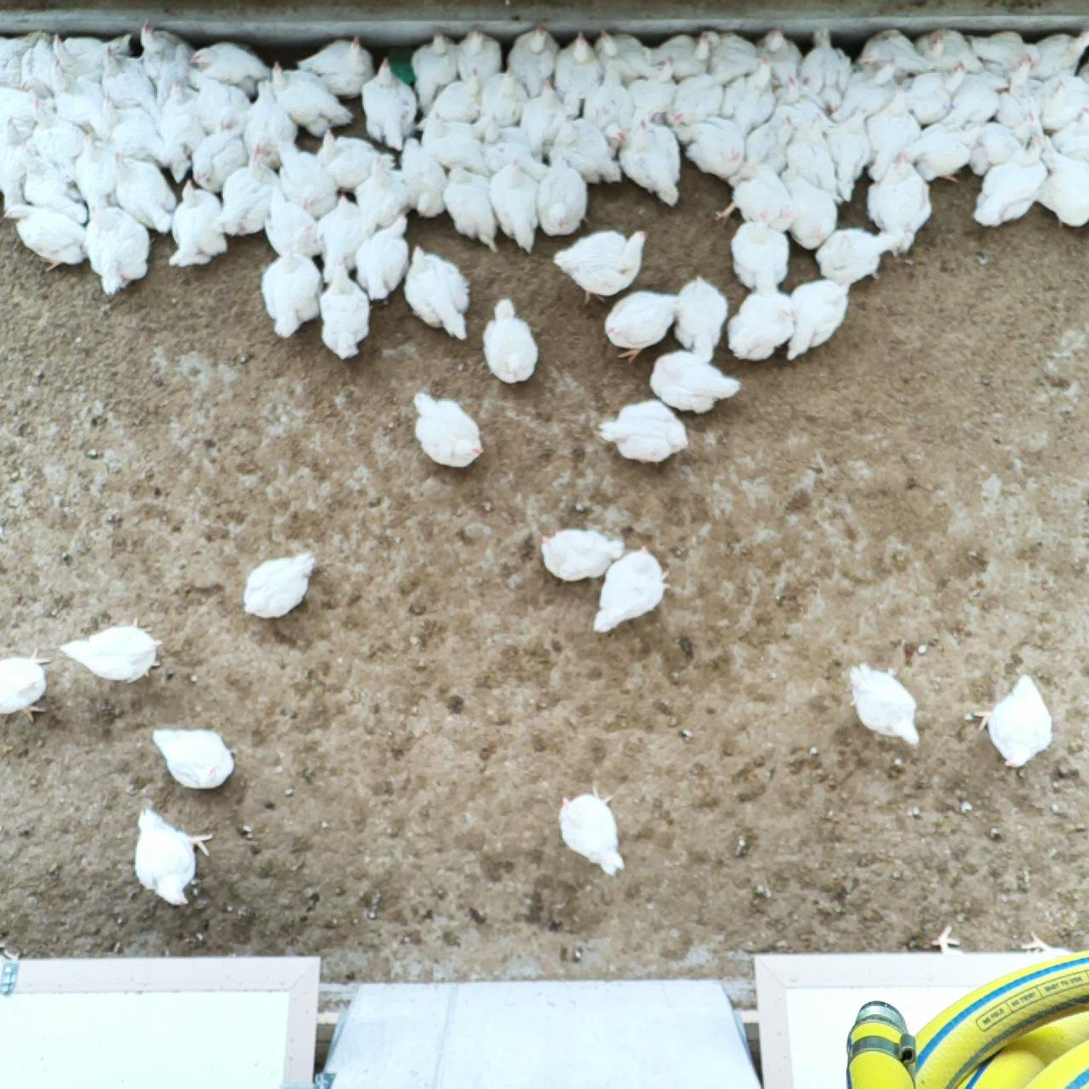chicken: (972, 670, 1058, 774), (132, 806, 214, 909), (843, 660, 929, 753), (552, 228, 649, 308), (590, 543, 673, 636), (863, 151, 935, 257), (83, 192, 157, 295), (57, 615, 166, 683), (971, 136, 1048, 229), (402, 243, 472, 343), (268, 60, 355, 140), (556, 783, 627, 877), (596, 399, 692, 467), (1, 200, 90, 273), (207, 146, 279, 236), (649, 349, 745, 416), (618, 113, 684, 209), (109, 148, 180, 237), (260, 242, 325, 339), (359, 56, 422, 154), (784, 279, 854, 365), (603, 288, 680, 365), (714, 162, 797, 233), (240, 75, 302, 170), (412, 391, 486, 470), (317, 258, 374, 360), (904, 115, 985, 186), (151, 725, 238, 791), (168, 179, 230, 271), (95, 93, 171, 168), (550, 114, 626, 189), (243, 549, 319, 623), (295, 33, 377, 101), (48, 58, 115, 141), (442, 163, 503, 254), (312, 126, 397, 191), (272, 139, 340, 220), (481, 295, 542, 385), (866, 84, 922, 182), (186, 39, 275, 99), (672, 275, 730, 366), (726, 288, 798, 361), (154, 81, 206, 182), (777, 168, 838, 253), (787, 113, 843, 205), (488, 157, 540, 256), (813, 225, 898, 285), (30, 97, 87, 186), (729, 114, 796, 189), (355, 213, 413, 299), (101, 44, 162, 125), (539, 527, 627, 583), (317, 192, 371, 283), (730, 220, 793, 298), (799, 26, 854, 115), (422, 108, 491, 178), (1035, 141, 1089, 229), (398, 134, 452, 221), (264, 184, 325, 259), (414, 66, 483, 132), (940, 68, 1011, 131), (410, 28, 460, 117), (0, 645, 54, 727), (677, 117, 745, 182), (833, 56, 902, 120), (827, 106, 872, 204), (536, 155, 589, 238), (723, 54, 776, 137), (902, 59, 968, 125), (483, 112, 548, 178), (20, 159, 89, 221), (554, 29, 602, 118), (190, 121, 249, 193), (519, 76, 567, 158), (582, 63, 635, 137), (506, 22, 560, 94), (72, 133, 117, 219), (994, 53, 1045, 128), (352, 156, 405, 228), (193, 75, 256, 135), (138, 17, 197, 81), (49, 31, 134, 75), (670, 68, 732, 128), (913, 26, 986, 76), (594, 26, 660, 81), (629, 53, 680, 123), (855, 26, 929, 72), (644, 31, 712, 80), (968, 30, 1042, 75), (480, 63, 532, 123), (1040, 71, 1089, 133), (1032, 28, 1089, 81), (757, 28, 805, 90), (155, 40, 202, 102), (456, 25, 506, 83), (20, 35, 64, 98), (704, 28, 761, 74), (775, 75, 829, 123), (1051, 105, 1089, 164), (0, 140, 32, 210), (0, 84, 37, 143), (588, 112, 626, 161), (0, 30, 45, 61), (1015, 110, 1048, 148), (148, 77, 170, 133), (0, 53, 28, 87)
